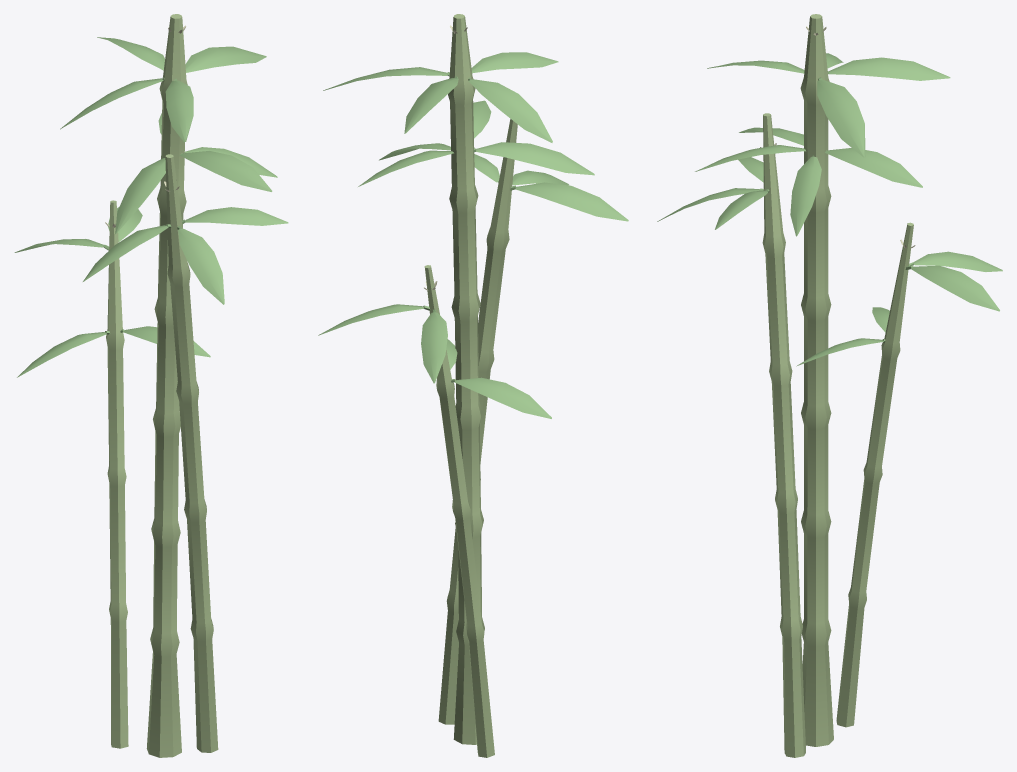
Rendered from bamboo.glb.
3 views of the same model, side by side, from view 1: azimuth 30°, elevation 25°; view 2: azimuth 150°, elevation 25°; view 3: azimuth 270°, elevation 25° (orthographic).
Visible parts, largest first — view 1: stem, foliage; view 2: stem, foliage; view 3: stem, foliage.
Part boxes in pixels (x1=…): stem: x1=106, y1=14, x2=218, y2=757; foliage: x1=14, y1=37, x2=288, y2=377; stem: x1=424, y1=14, x2=517, y2=757; foliage: x1=318, y1=52, x2=628, y2=418; stem: x1=762, y1=14, x2=913, y2=757; foliage: x1=657, y1=53, x2=1002, y2=366.
Size of the model in its own units: 0.4111 by 1.16 by 0.499.
